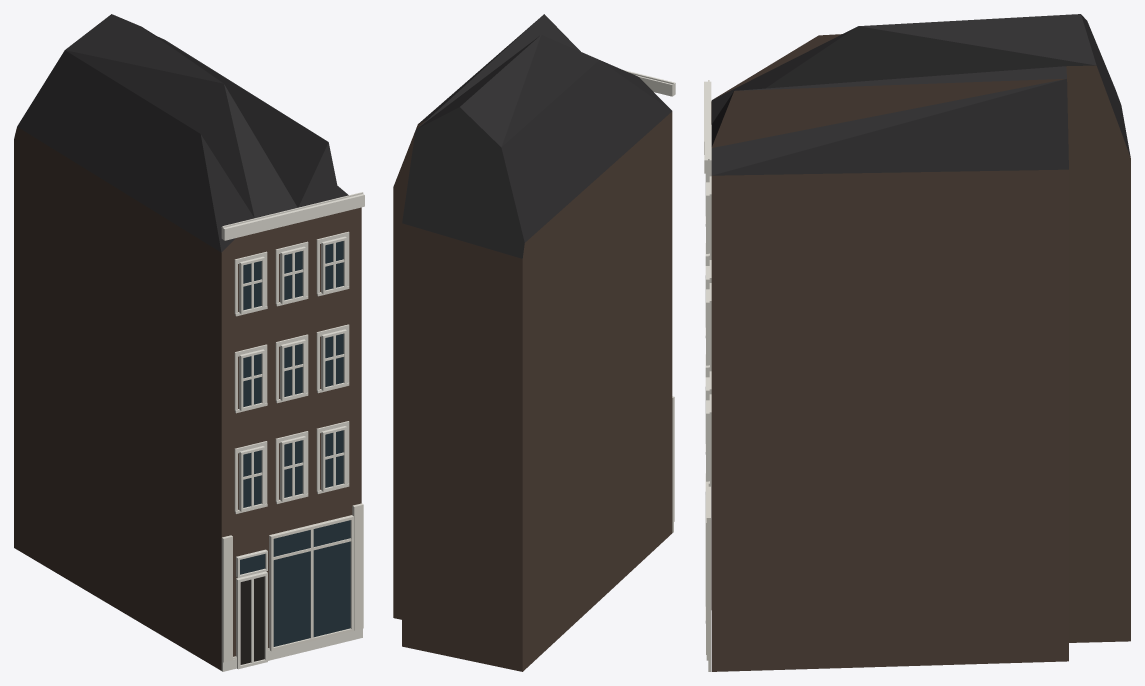
3 renders of one model, left to right at view 1: azimuth 30°, elevation 25°; view 2: azimuth 150°, elevation 25°; view 3: azimuth 270°, elevation 25°, orthographic. The views are drawn at different scales.
Parts seen in each view (by area): view 1: spec-0363100012177977; view 2: spec-0363100012177977; view 3: spec-0363100012177977.
Part boxes in pixels (bbox=[...]): spec-0363100012177977: bbox=[14, 14, 364, 671]; spec-0363100012177977: bbox=[393, 14, 675, 671]; spec-0363100012177977: bbox=[704, 14, 1130, 671].
Bounding box in the file's own units: 5.38 × 15.97 × 10.17.
